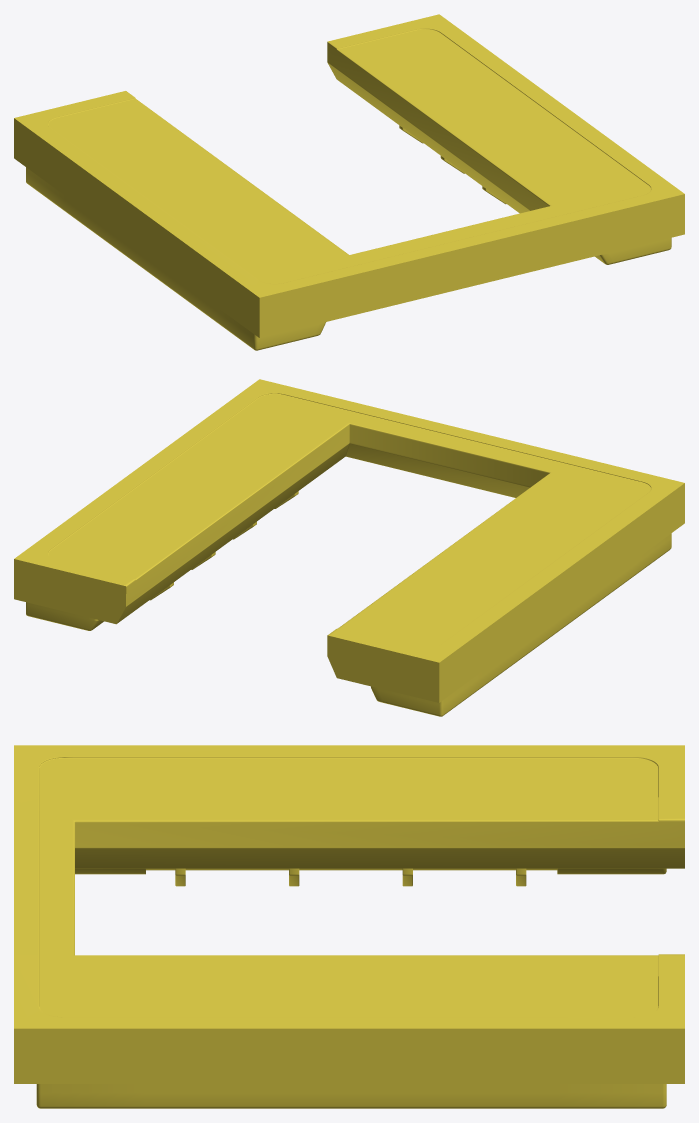
The model's file is Floor04.fbx.
The picture shows the model from 3 angles, top to bottom: view 1: azimuth 30°, elevation 25°; view 2: azimuth 150°, elevation 25°; view 3: azimuth 270°, elevation 25°; orthographic projection. The views are drawn at different scales.
Parts seen in each view (by area): view 1: SM_Floor04; view 2: SM_Floor04; view 3: SM_Floor04.
Boxes of the visible parts, x1,y1,x2,y2 form: SM_Floor04: (14,14,684,350); SM_Floor04: (14,379,684,716); SM_Floor04: (14,745,684,1108).
Size of the model in its own units: 3.5 by 0.5117 by 3.5.
